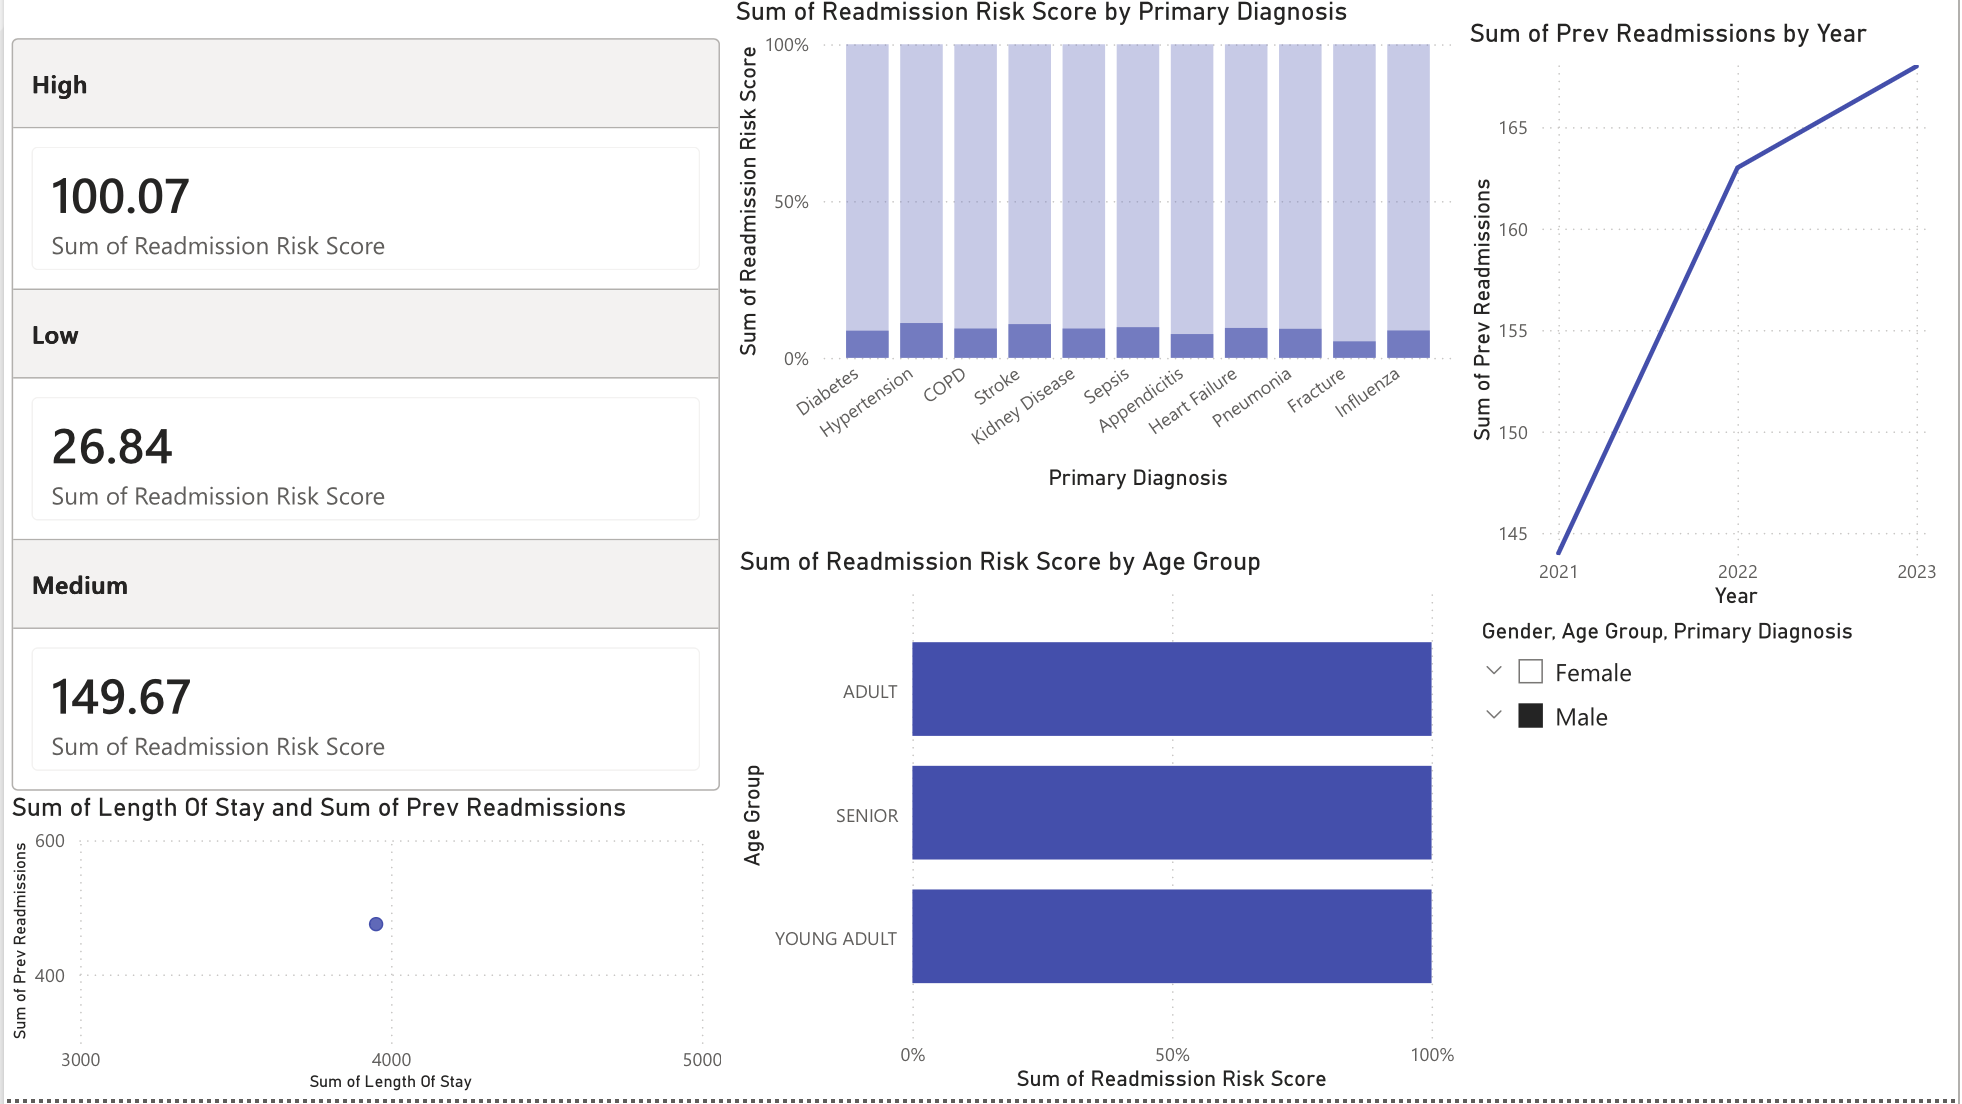

The page's visual inventory and layout, read from the dashboard file:
{"tool":"powerbi","page":{"name":"Page 1","canvas":[1280,720],"ordinal":0},"visuals":[{"type":"cardVisual","fields":{"Rows":["Clean Data.Readmission Risk Category"],"Data":["Sum(Clean Data.Readmission Risk Score)"]},"box":[0,0,474.7,545.9],"z":0},{"type":"hundredPercentStackedBarChart","fields":{"Category":["Clean Data.Age Group"],"Y":["Sum(Clean Data.Readmission Risk Score)"]},"box":[476.7,360.6,478.3,359.1],"z":1},{"type":"hundredPercentStackedColumnChart","fields":{"Category":["Clean Data.Primary Diagnosis"],"Y":["Sum(Clean Data.Readmission Risk Score)"]},"box":[474.7,0,479.4,325.9],"z":2},{"type":"scatterChart","fields":{"X":["Sum(Clean Data.Length Of Stay)"],"Y":["Sum(Clean Data.Prev Readmissions)"]},"box":[0,521.6,475.2,198.1],"z":3},{"type":"lineChart","fields":{"Category":["Clean Data.Admission Date.Variation.Date Hierarchy.Year","Clean Data.Admission Date.Variation.Date Hierarchy.Quarter","Clean Data.Admission Date.Variation.Date Hierarchy.Month","Clean Data.Admission Date.Variation.Date Hierarchy.Day"],"Y":["Sum(Clean Data.Prev Readmissions)"]},"box":[955,13.9,315.7,388.5],"z":4},{"type":"slicer","fields":{"Values":["Clean Data.Gender","Clean Data.Age Group","Clean Data.Primary Diagnosis"]},"box":[955,402,316,318],"z":5}]}

Visuals, with their boxes in screenshot pixels (x1, y1, x2, y2), scaled from the page's 1280x720 canvas onto the 1962x1104 screenshot:
cardVisual - Clean Data.Readmission Risk Category x Sum(Clean Data.Readmission Risk Score): rect(0, 0, 728, 837)
hundredPercentStackedBarChart - Clean Data.Age Group x Sum(Clean Data.Readmission Risk Score): rect(731, 553, 1464, 1103)
hundredPercentStackedColumnChart - Clean Data.Primary Diagnosis x Sum(Clean Data.Readmission Risk Score): rect(728, 0, 1462, 500)
scatterChart - Sum(Clean Data.Length Of Stay) x Sum(Clean Data.Prev Readmissions): rect(0, 800, 728, 1103)
lineChart - Clean Data.Admission Date.Variation.Date Hierarchy.Year x Clean Data.Admission Date.Variation.Date Hierarchy.Quarter: rect(1464, 21, 1948, 617)
slicer - Clean Data.Gender x Clean Data.Age Group: rect(1464, 616, 1948, 1103)
